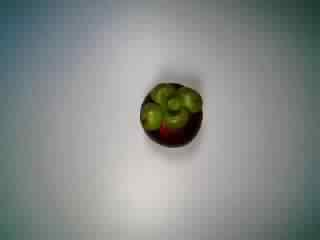mangosteen: (134, 77, 204, 147)
